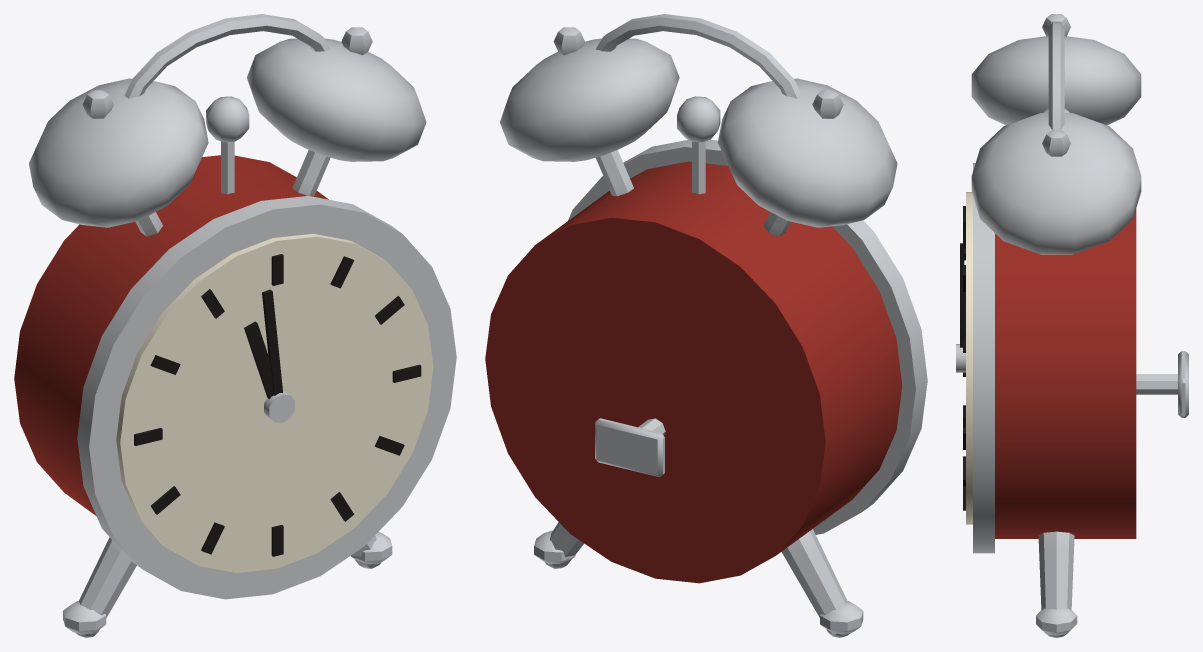
File: item_alarm.glb
3 views of the same model, side by side, from view 1: azimuth 30°, elevation 25°; view 2: azimuth 150°, elevation 25°; view 3: azimuth 270°, elevation 25° (orthographic). The views are drawn at different scales.
Parts seen in each view (by area): view 1: Alarm; view 2: Alarm; view 3: Alarm.
Part boxes in pixels (<box>): Alarm: <box>14,14,456,637</box>; Alarm: <box>485,14,927,637</box>; Alarm: <box>956,14,1188,637</box>.
Bounding box in the file's own units: 0.1082 × 0.1633 × 0.0642.
